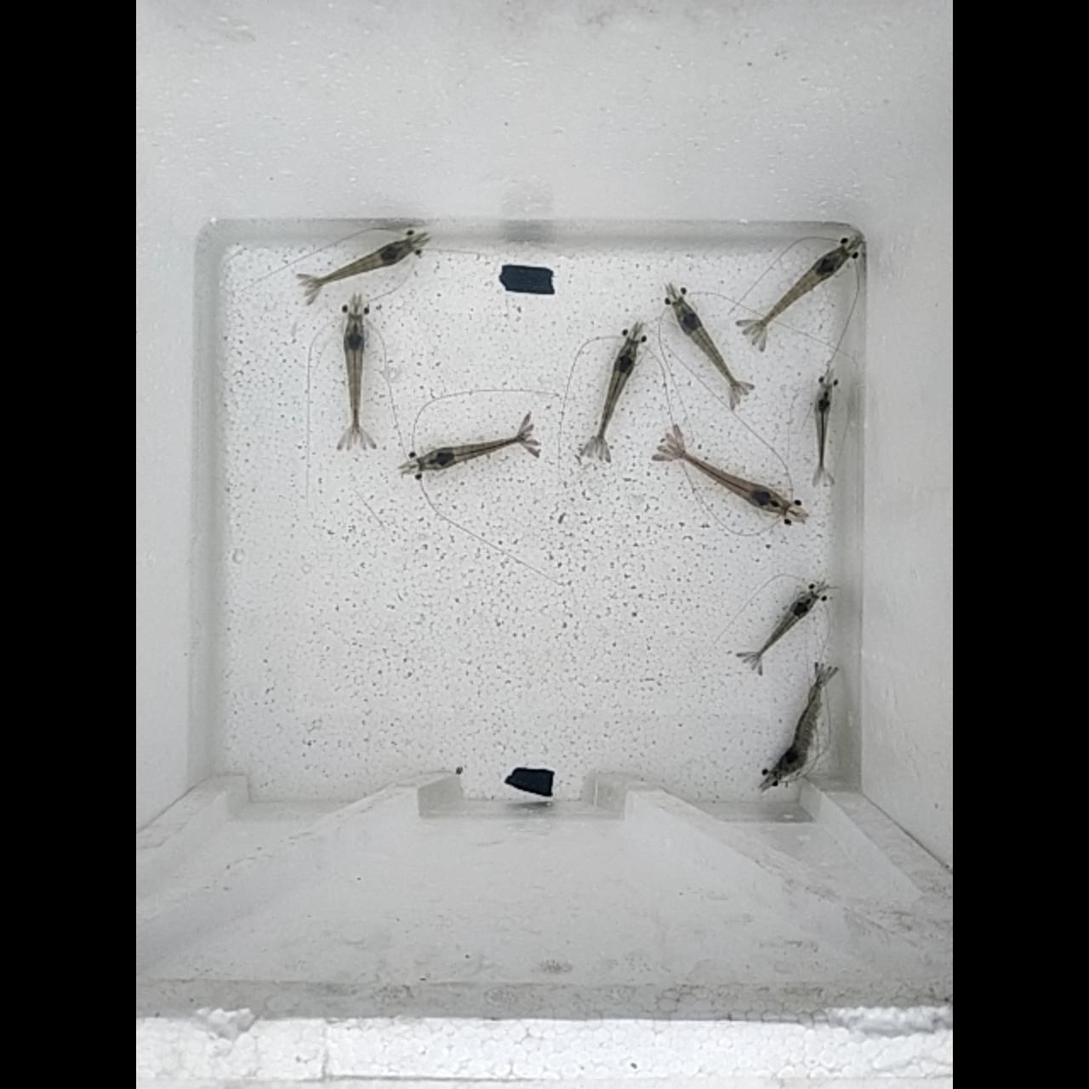box: (504, 267, 553, 293), (512, 771, 553, 796)
top_shrimp: (752, 252, 846, 334), (674, 451, 788, 514), (674, 303, 740, 395), (311, 240, 412, 291), (774, 676, 822, 778), (594, 342, 636, 449), (750, 596, 813, 664), (417, 437, 526, 470), (344, 318, 364, 436), (813, 384, 833, 475)
